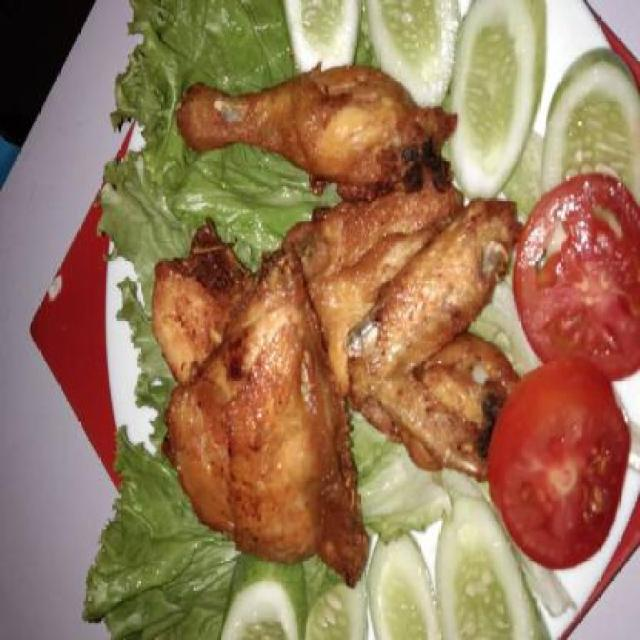Wet Waste: (151, 232, 372, 588), (291, 191, 511, 480), (178, 61, 448, 194)
